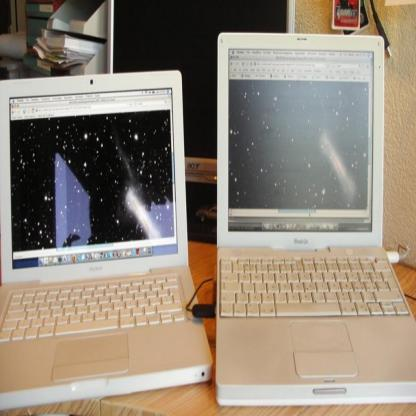board: (214, 29, 415, 404), (0, 67, 214, 414)
